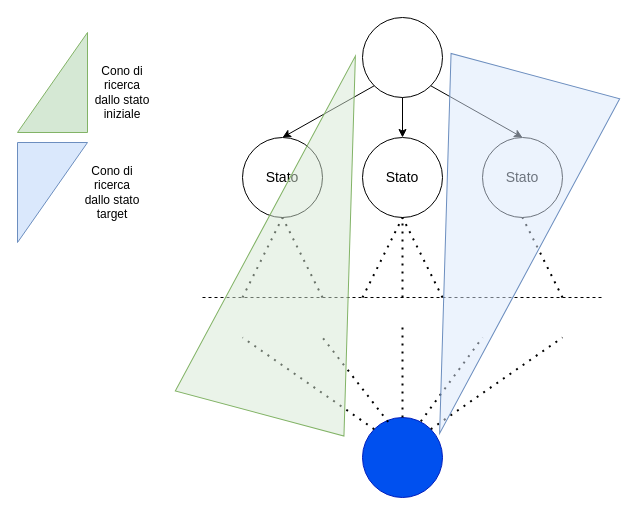
Image size: 638x515. Some labels were removed from this diagram. Each missing label, with the box of its shape:
Stato goal: (362, 416, 442, 498)
Stato iniziale: (362, 16, 442, 98)
